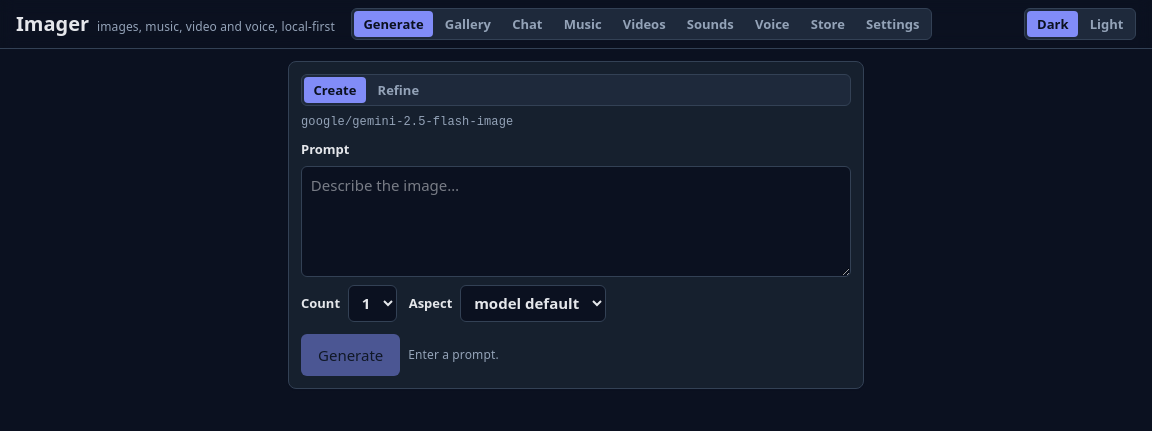
it: a 200 error envelope → failed run row + visible error + toast, zero images
Check: the dropdown named "Aspect ratio" is shown, box top-left (460, 285), bottom-right (606, 322)
Type "x" into the text box labelled "Prompt" at (576, 221), box top-left (301, 166), bottom-right (851, 277)
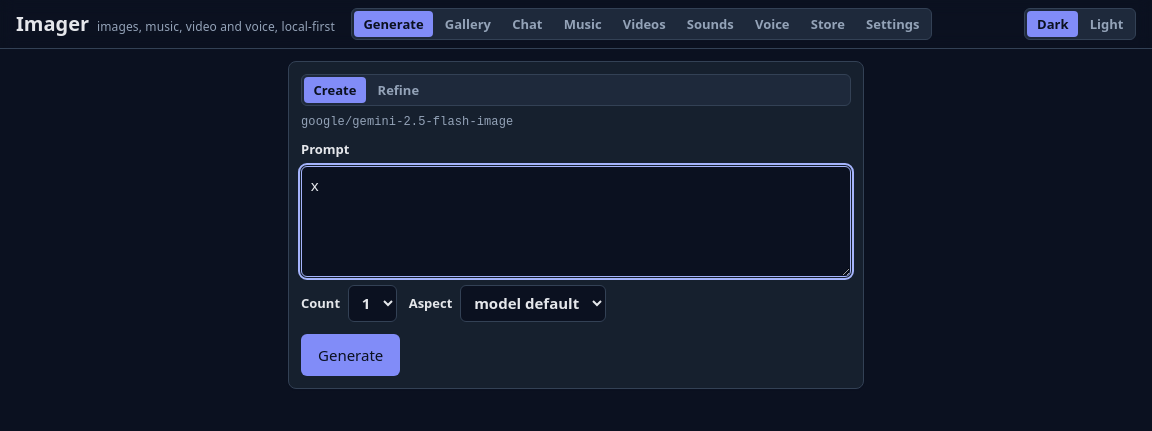
Click the button "Generate" at (351, 354), box top-left (301, 334), bottom-right (400, 376)
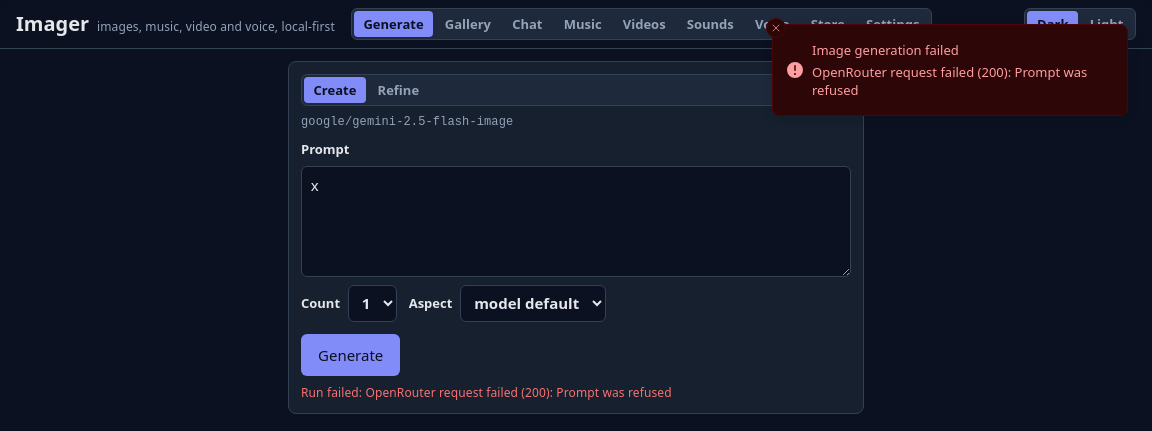
Check: the text "Run failed: OpenRouter request failed (200): Prompt was refused" is shown, box top-left (301, 384), bottom-right (672, 400)
Check: the text "Image generation failed" is shown, box top-left (812, 41), bottom-right (959, 59)
